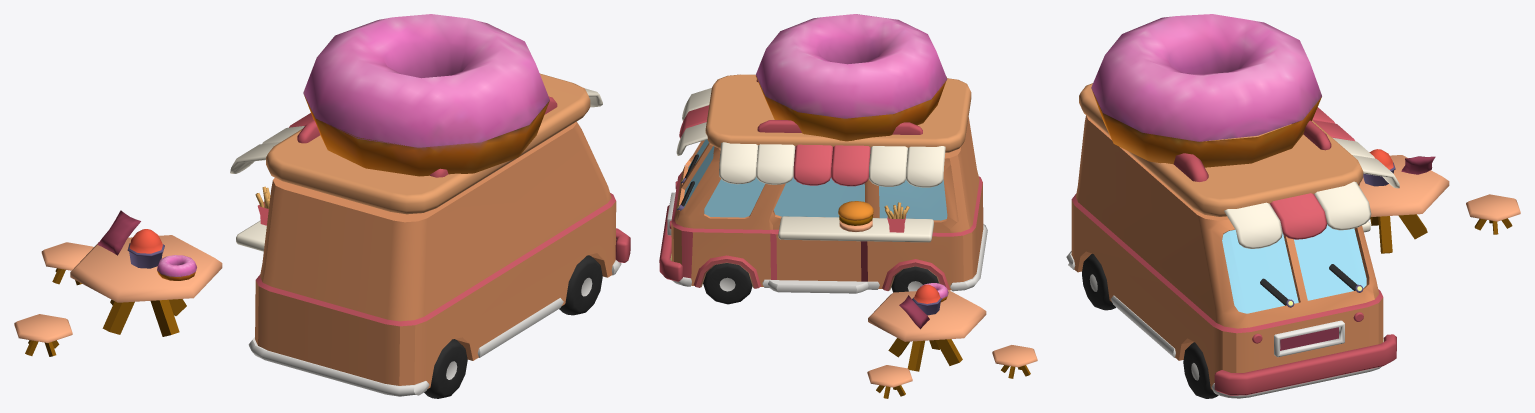
The model's file is Burger.fbx.
The picture shows the model from 3 angles, left to right: view 1: azimuth 30°, elevation 25°; view 2: azimuth 150°, elevation 25°; view 3: azimuth 270°, elevation 25°; orthographic projection. The views are drawn at different scales.
Visible parts, largest first — view 1: burger1; view 2: burger1; view 3: burger1.
Part boxes in pixels (x1,y1,x2,y2): burger1: [14, 14, 630, 398]; burger1: [659, 14, 1037, 398]; burger1: [1066, 14, 1520, 398].
Bounding box in the file's own units: 6.6 × 3.55 × 5.14.
